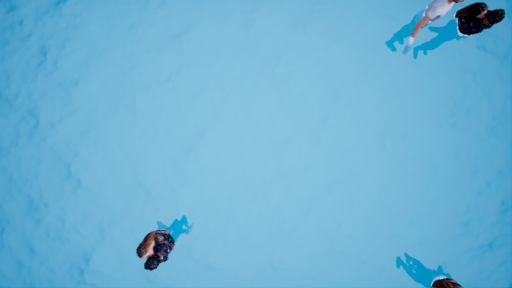person: (392, 1, 503, 66), (131, 217, 195, 275)
